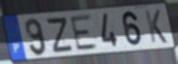4: (100, 12, 120, 50)
6: (122, 11, 144, 48)
9: (24, 16, 48, 57)
E: (69, 14, 100, 53)
K: (143, 9, 169, 45)
Z: (46, 16, 75, 55)
